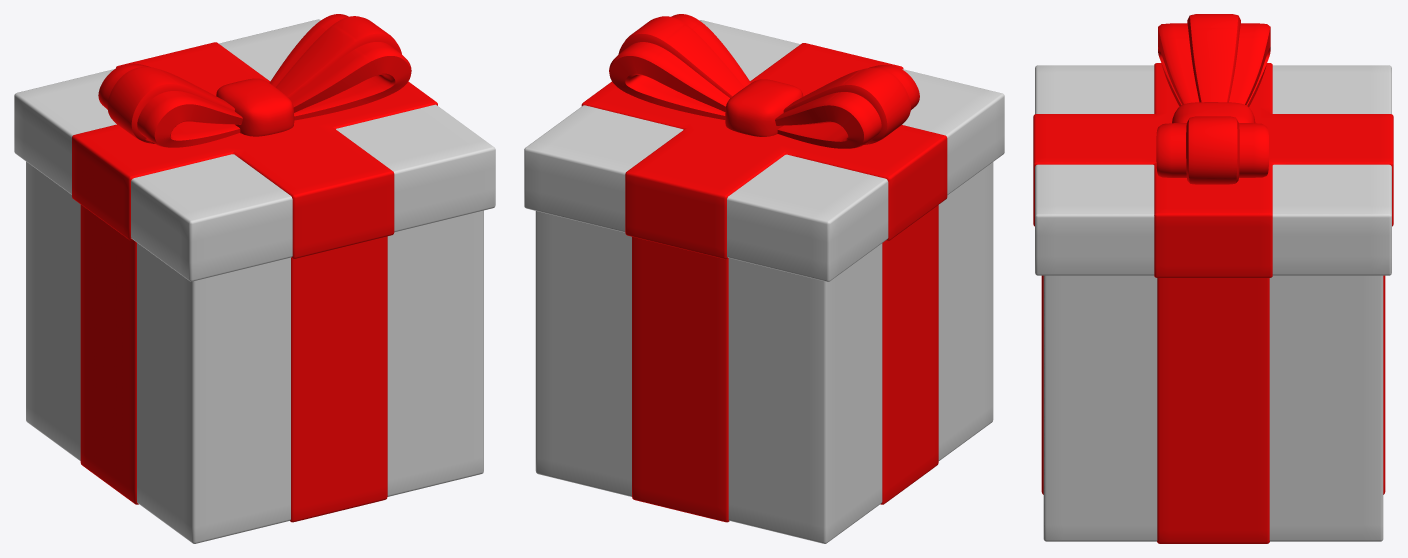
Rendered from gift.obj.
3 views of the same model, side by side, from view 1: azimuth 30°, elevation 25°; view 2: azimuth 150°, elevation 25°; view 3: azimuth 270°, elevation 25° (orthographic).
Visible parts, largest first — view 1: Object_4, Object_6, Object_5, Object_7; view 2: Object_4, Object_6, Object_5, Object_7; view 3: Object_4, Object_6, Object_5, Object_7.
Part boxes in pixels (x1,y1,x2,y2): Object_4: (14, 19, 495, 543); Object_6: (72, 42, 437, 522); Object_5: (98, 63, 294, 147); Object_7: (269, 14, 411, 120); Object_4: (524, 20, 1004, 543); Object_6: (581, 43, 947, 522); Object_5: (725, 65, 919, 148); Object_7: (609, 14, 750, 119); Object_4: (1035, 65, 1391, 541); Object_6: (1033, 63, 1393, 543); Object_5: (1158, 14, 1270, 123); Object_7: (1156, 116, 1268, 184).
Bounding box in the file's own units: 0.6612 × 0.817 × 0.6612.
